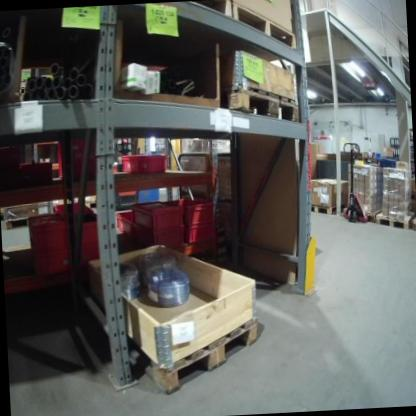pallet: (88, 299, 263, 398), (219, 82, 303, 129), (238, 3, 297, 56), (168, 2, 236, 25), (374, 209, 415, 232), (341, 205, 388, 224), (306, 198, 349, 218), (81, 194, 99, 214), (411, 213, 416, 234)
pallet_truck: (338, 136, 371, 226)
small_load_carrier: (59, 136, 107, 181), (131, 196, 182, 228), (131, 224, 184, 254), (25, 214, 69, 249), (164, 195, 215, 224), (115, 208, 150, 242), (118, 153, 167, 174), (74, 211, 106, 243), (36, 247, 70, 276), (21, 160, 52, 190), (183, 220, 216, 245), (74, 244, 105, 270), (52, 201, 94, 216)
stillage: (178, 147, 248, 260)
